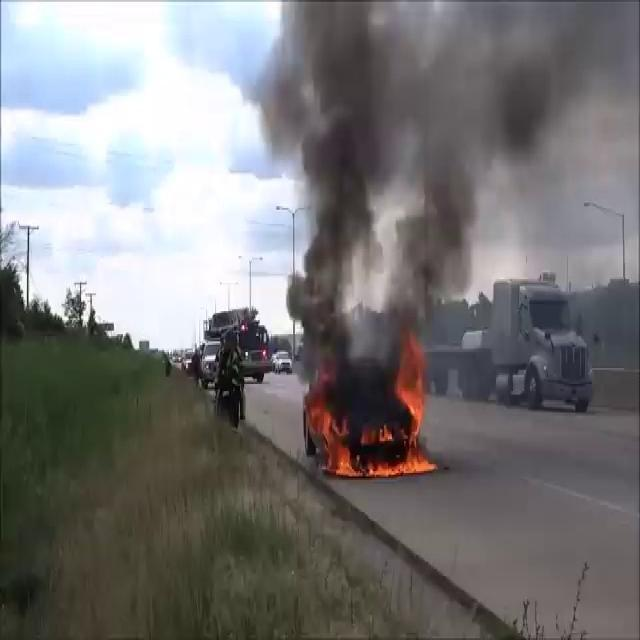Fire: (310, 362, 434, 480)
Smoke: (264, 2, 633, 352)
